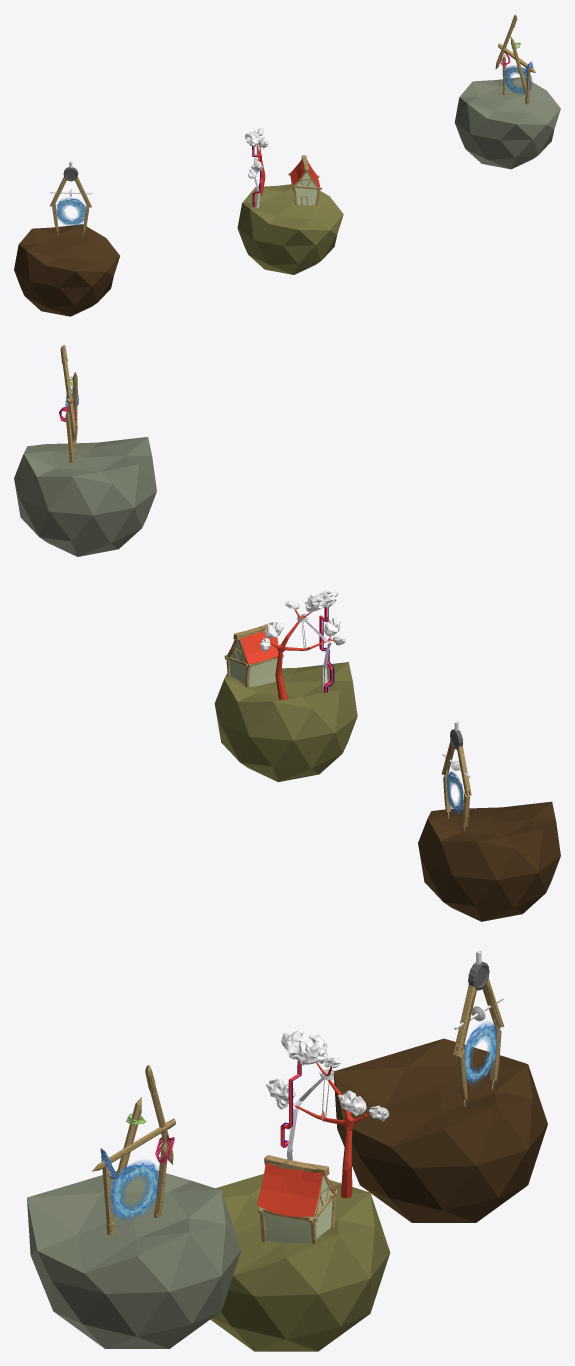
File: Erstes_Haus.gltf
3 views of the same model, one above another, from view 1: azimuth 30°, elevation 25°; view 2: azimuth 150°, elevation 25°; view 3: azimuth 270°, elevation 25° (orthographic). The views are drawn at different scales.
Parts seen in each view (by area): view 1: Icosphere.002, Icosphere.001, Icosphere, Portal1, Plane, Portal2; view 2: Icosphere.001, Icosphere.002, Icosphere, Dach links, Cube.024; view 3: Icosphere.001, Icosphere.002, Icosphere, Plane.004, Portal2, Portal1, Cube.024, Mball.001, Plane.002, Cube.026, Cube.025, Cylinder.004 (+6 smaller).
Boxes of the visible parts, x1=… form: Icosphere.002: x1=14, y1=224, x2=119, y2=316; Icosphere.001: x1=454, y1=77, x2=560, y2=169; Icosphere: x1=237, y1=184, x2=343, y2=274; Portal1: x1=56, y1=198, x2=85, y2=226; Plane: x1=295, y1=172, x2=317, y2=205; Portal2: x1=503, y1=65, x2=532, y2=94; Icosphere.001: x1=14, y1=437, x2=156, y2=556; Icosphere.002: x1=418, y1=801, x2=560, y2=921; Icosphere: x1=214, y1=662, x2=357, y2=782; Dach links: x1=240, y1=631, x2=278, y2=664; Cube.024: x1=269, y1=610, x2=335, y2=699; Icosphere.001: x1=27, y1=1164, x2=241, y2=1348; Icosphere.002: x1=333, y1=1038, x2=547, y2=1222; Icosphere: x1=210, y1=1174, x2=390, y2=1351; Plane.004: x1=257, y1=1163, x2=322, y2=1216; Portal2: x1=109, y1=1160, x2=158, y2=1221; Portal1: x1=464, y1=1021, x2=497, y2=1084; Cube.024: x1=288, y1=1062, x2=370, y2=1198; Mball.001: x1=281, y1=1030, x2=327, y2=1066; Plane.002: x1=264, y1=1212, x2=311, y2=1243; Cube.026: x1=453, y1=978, x2=504, y2=1056; Cube.025: x1=456, y1=1020, x2=501, y2=1100; Cylinder.004: x1=145, y1=1065, x2=173, y2=1164.
Size of the model in its own units: 225 by 124 by 113.
17 materials, 3 textured.
